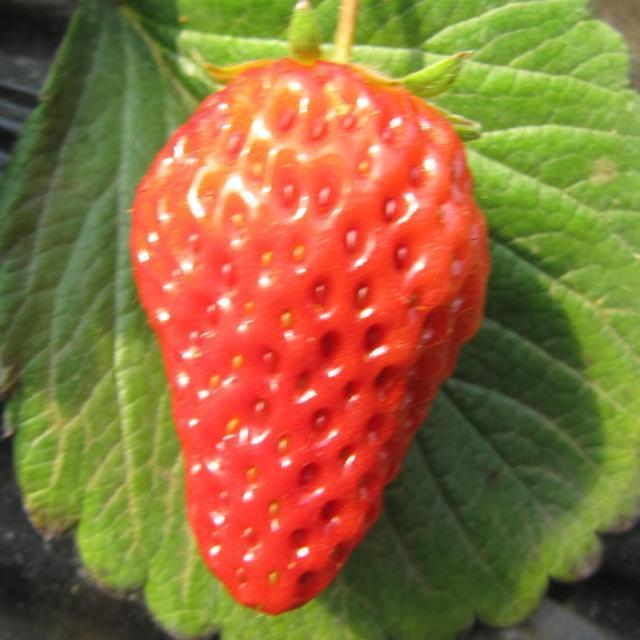Strawberry: (126, 3, 492, 617)
